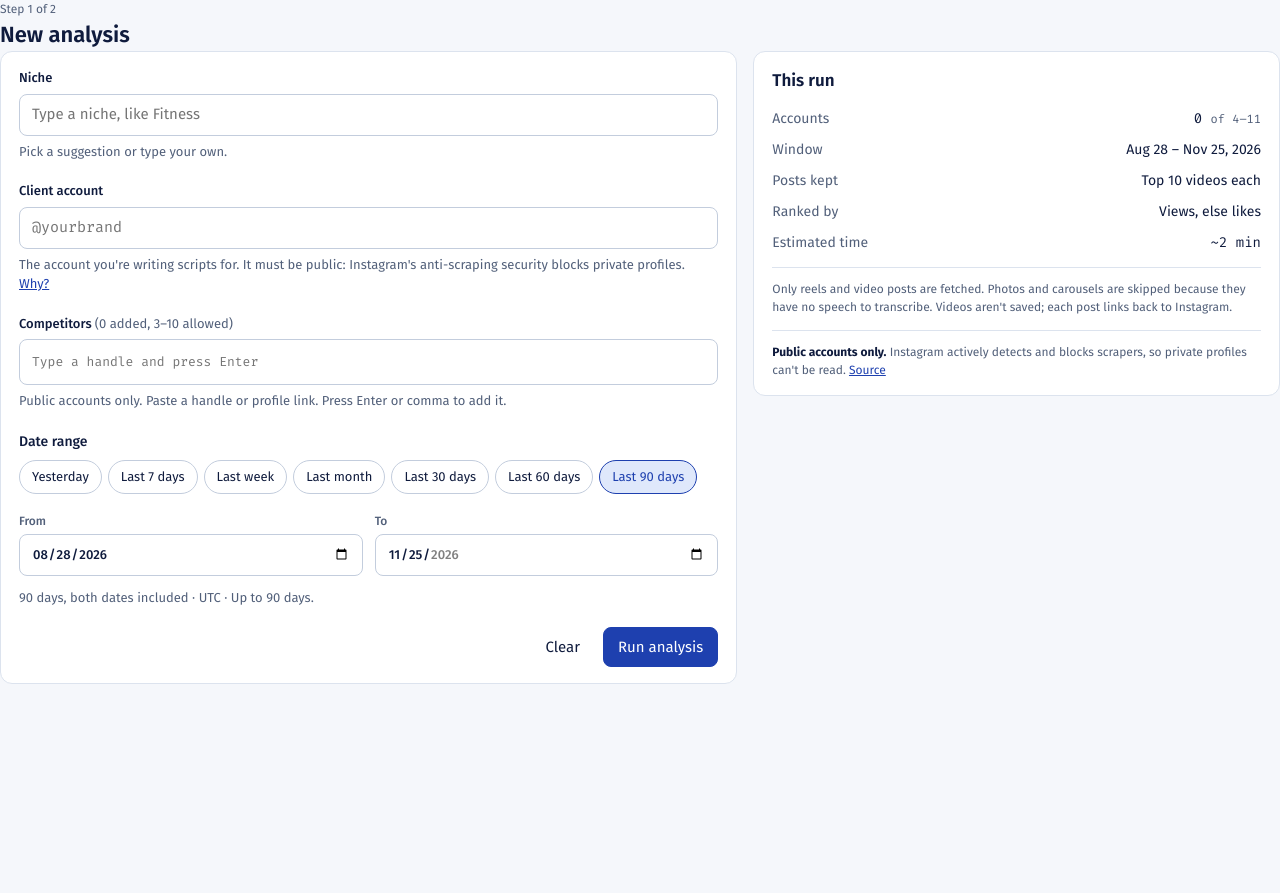
NewRunForm › focuses the competitor input when too few competitors are added
Type "AI" into the dropdown labelled "Niche". click: (369, 114)
box: [19,94,718,136]
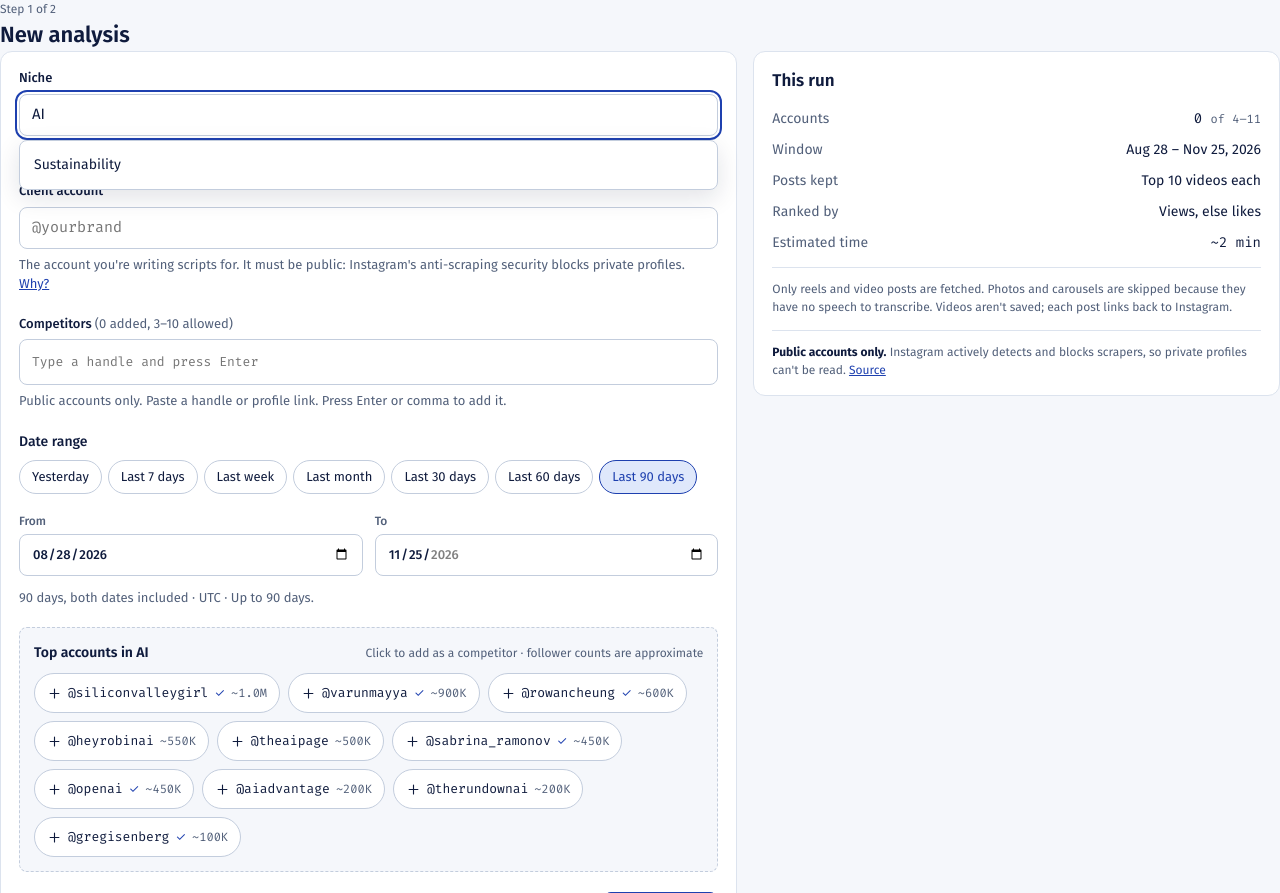
Type "me" into the field labelled "Client account". click: (369, 228)
box: [19,206,718,248]
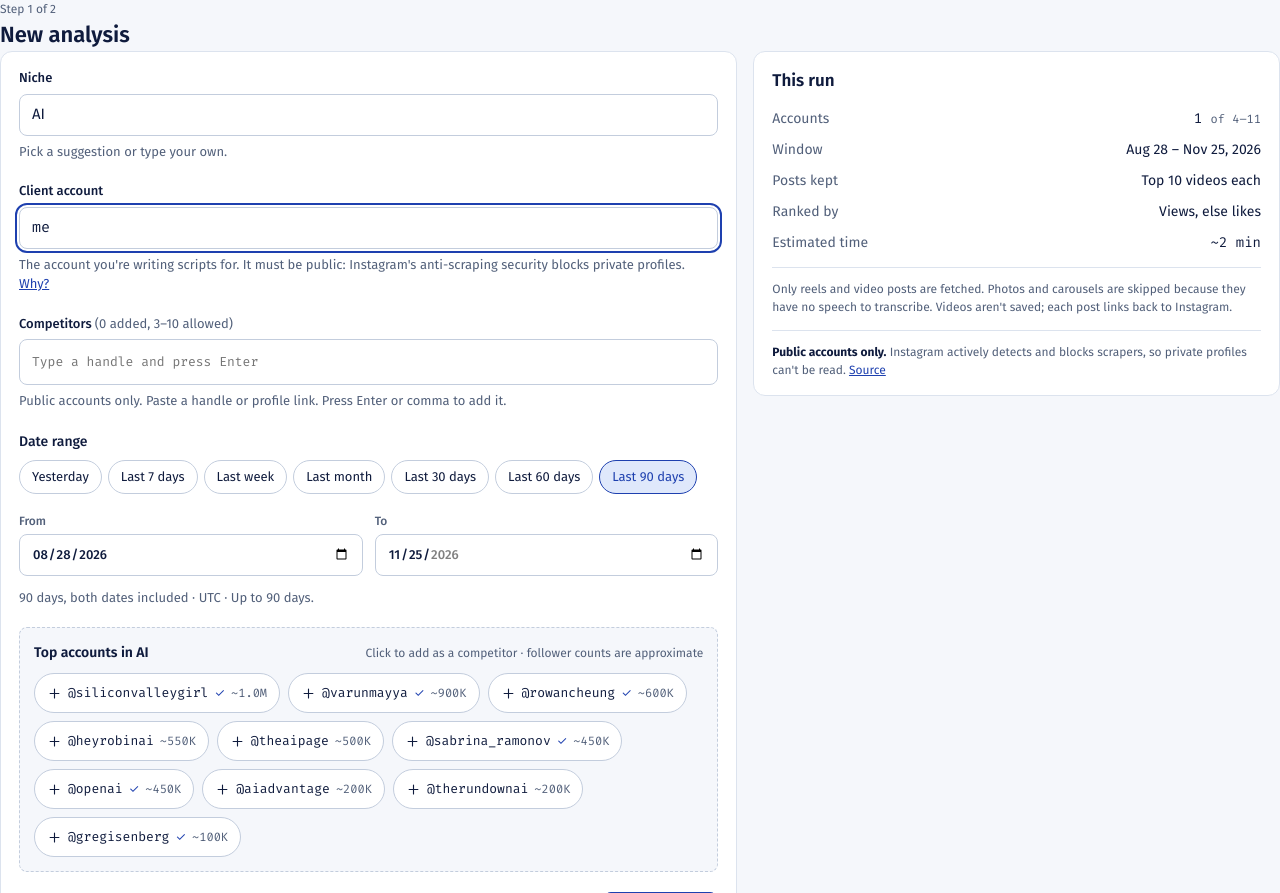
Type "one," into the field with placeholder "Type a handle and press Enter". click: (369, 362)
box: [26,346,711,378]
(page scrolled)
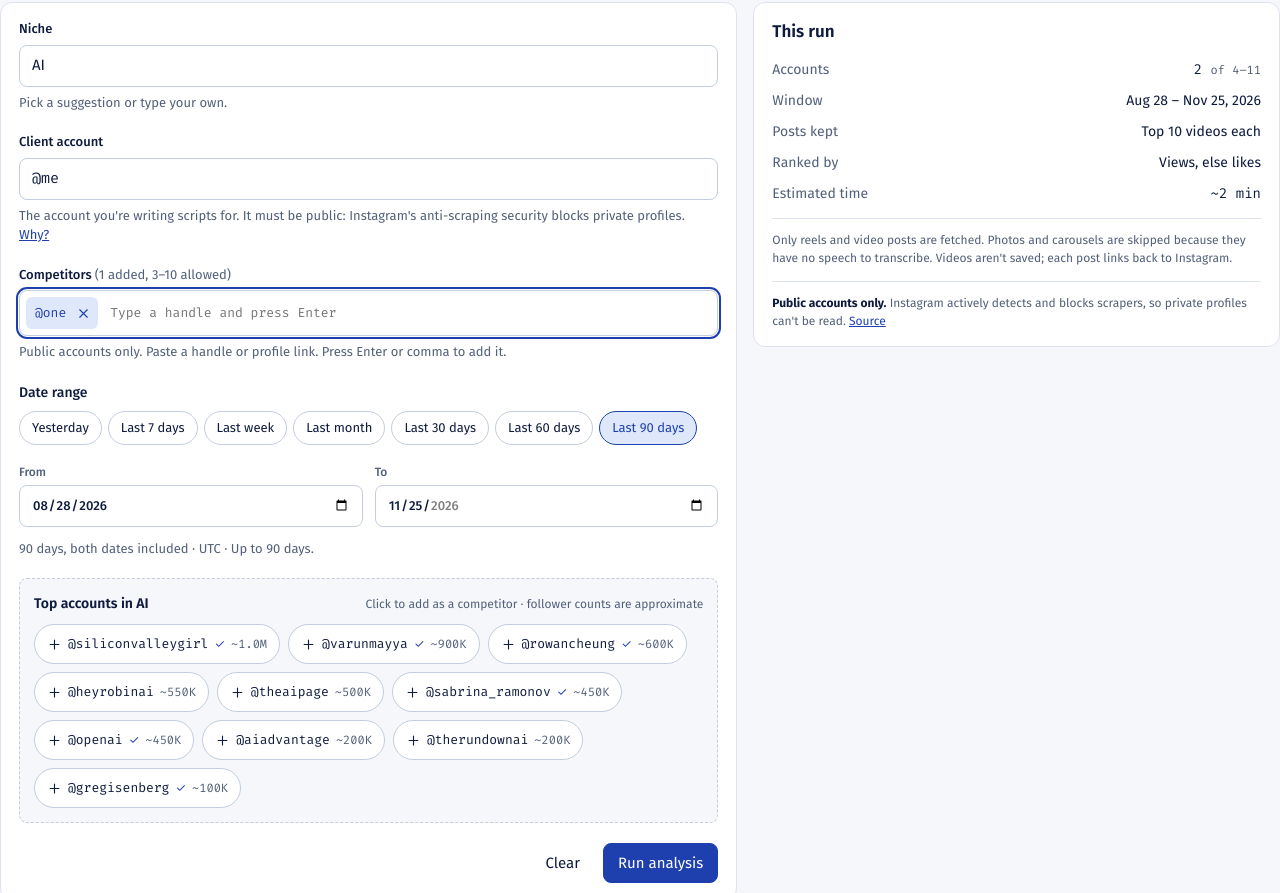
Click the button "Run analysis". click: (661, 863)
box: [603,843,718,883]
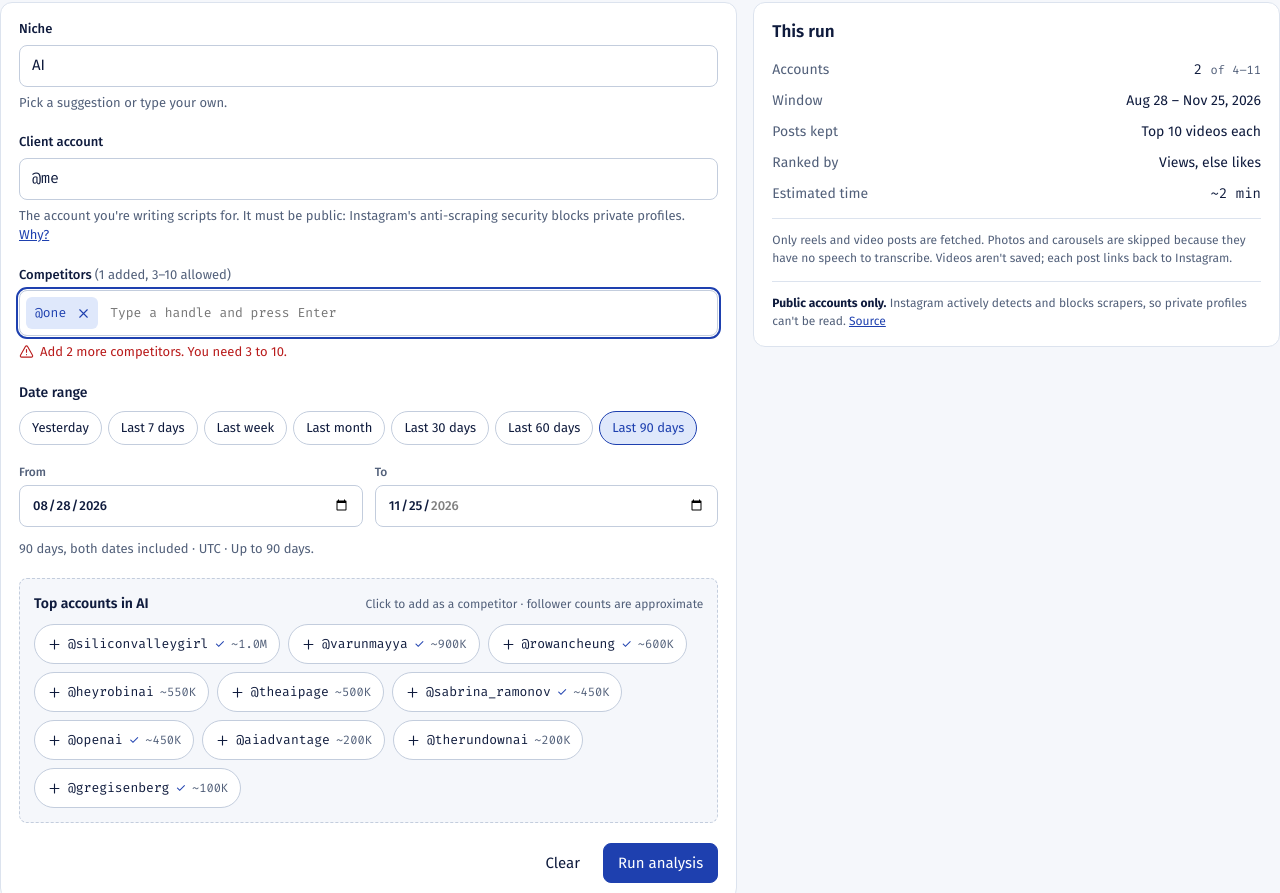
Now the text "Add 2 more competitors. You need 3 to 10." is shown, box [19,344,287,359]
